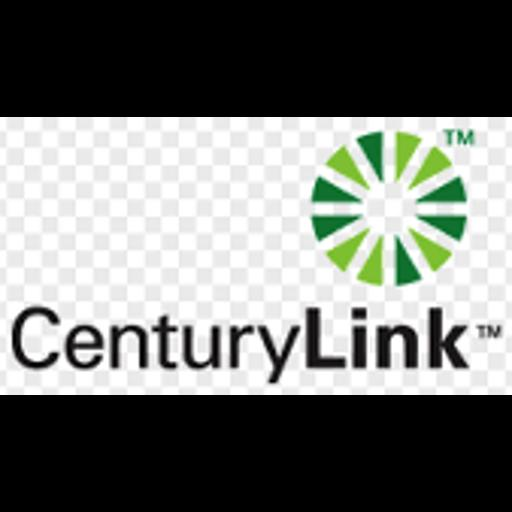CenturyLink: (0, 117, 512, 395)
